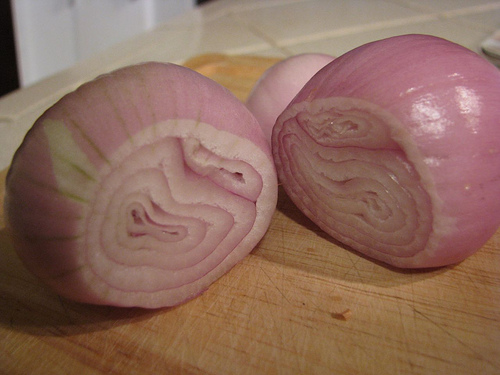onion: (5, 62, 278, 307), (283, 29, 499, 281)
